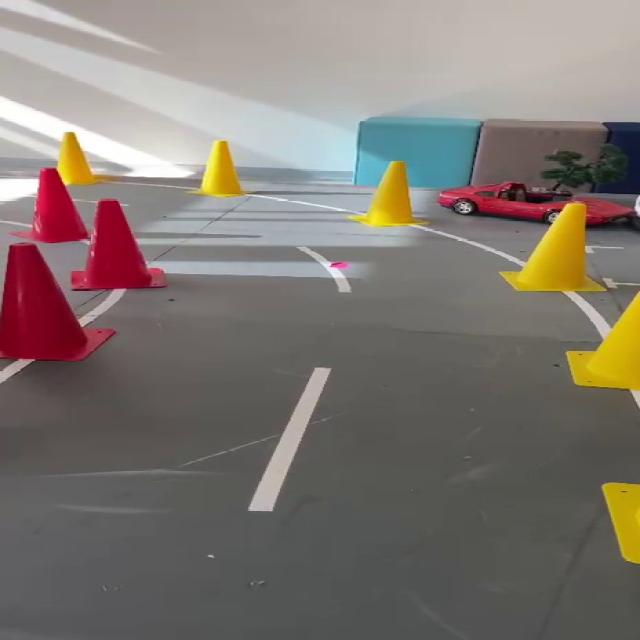Cone-red: (0, 238, 126, 372), (56, 200, 195, 304), (16, 168, 90, 246)
Cones-yellow: (494, 191, 616, 313), (531, 280, 638, 394), (342, 150, 441, 241), (28, 121, 126, 188), (188, 132, 270, 212), (583, 462, 640, 568)
